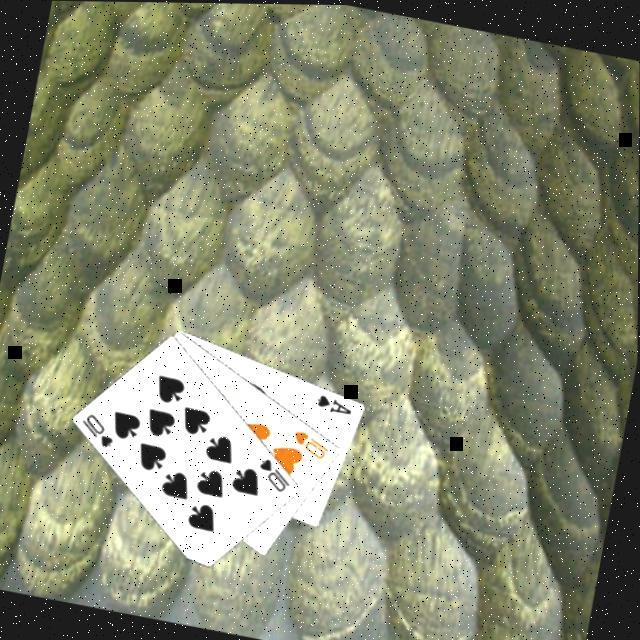10H: (288, 426, 336, 464)
10S: (76, 410, 122, 453), (253, 456, 300, 498)
AS: (314, 390, 358, 420)
